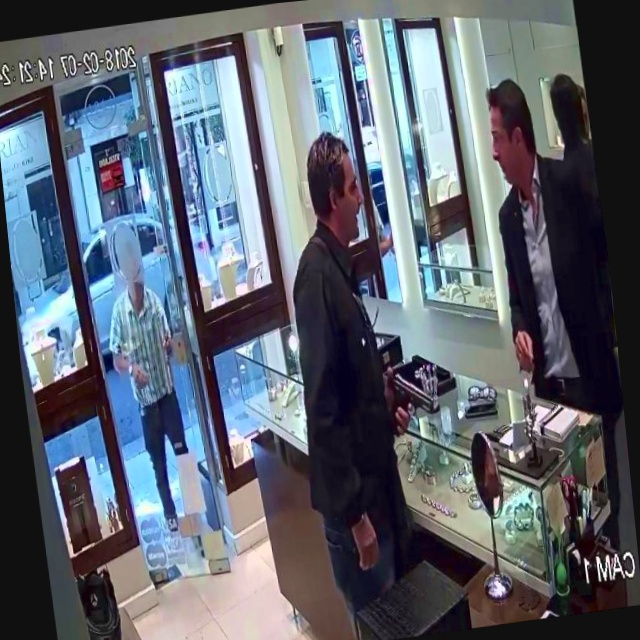gun: (374, 343, 449, 444)
